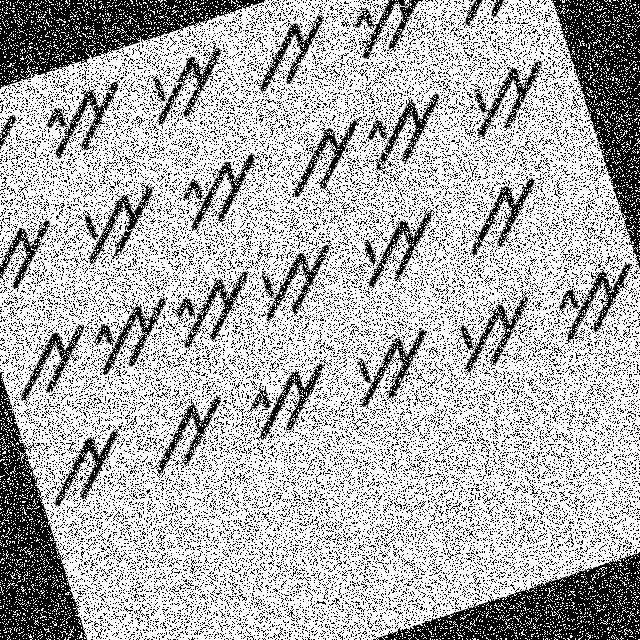wa: (136, 379, 244, 485), (448, 166, 558, 266), (274, 107, 379, 209), (238, 5, 342, 100), (0, 311, 102, 406), (36, 416, 140, 509), (0, 201, 71, 309), (0, 100, 38, 205)
we: (59, 172, 177, 276), (449, 45, 564, 147), (135, 34, 246, 138), (344, 196, 452, 297), (441, 284, 550, 384), (339, 317, 448, 416), (247, 236, 351, 332), (441, 0, 552, 47)
wi: (31, 68, 138, 170), (236, 351, 346, 448), (167, 143, 273, 242), (540, 250, 639, 349), (83, 284, 185, 377), (360, 84, 460, 174), (337, 0, 452, 77), (166, 266, 266, 352)
